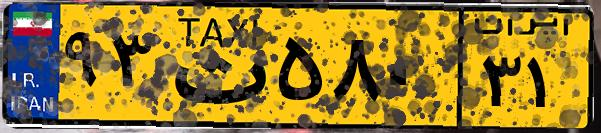0: (385, 28, 445, 110)
1: (525, 38, 570, 115)
3: (475, 38, 525, 113), (110, 28, 158, 98)
5: (270, 28, 330, 110)
8: (330, 28, 385, 110)
9: (57, 26, 110, 100)
ت: (158, 12, 270, 120)
